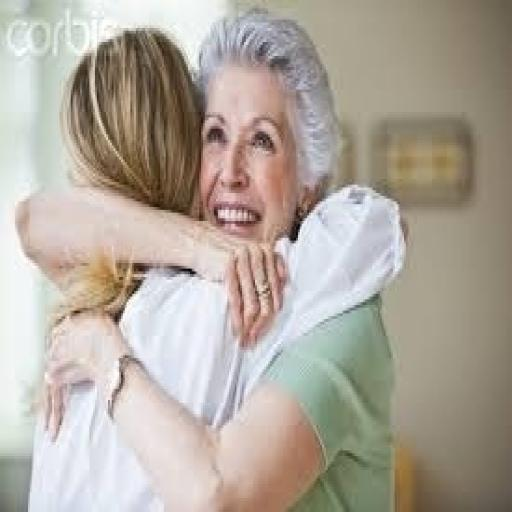hugging: (18, 8, 408, 510)
